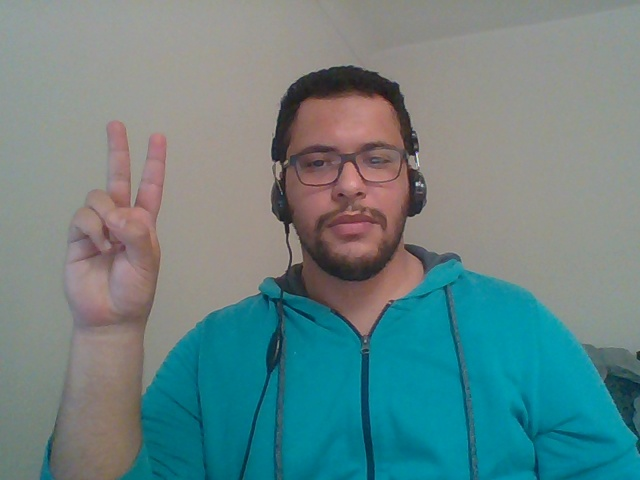vectory: (39, 110, 208, 357)
